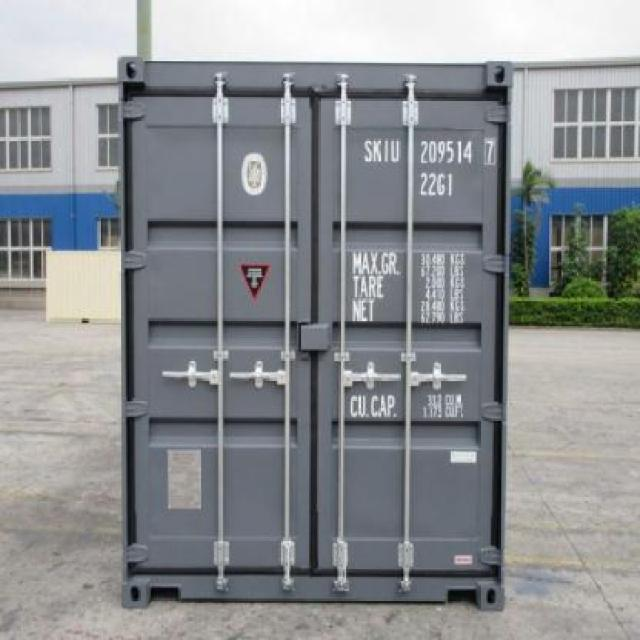ISO: (420, 172, 456, 196)
container_number: (362, 138, 498, 165)
